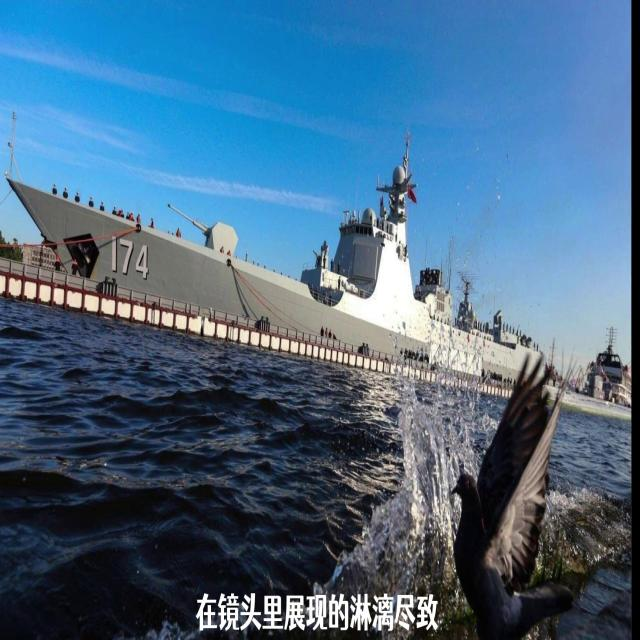navalvessels: (6, 124, 548, 392)
